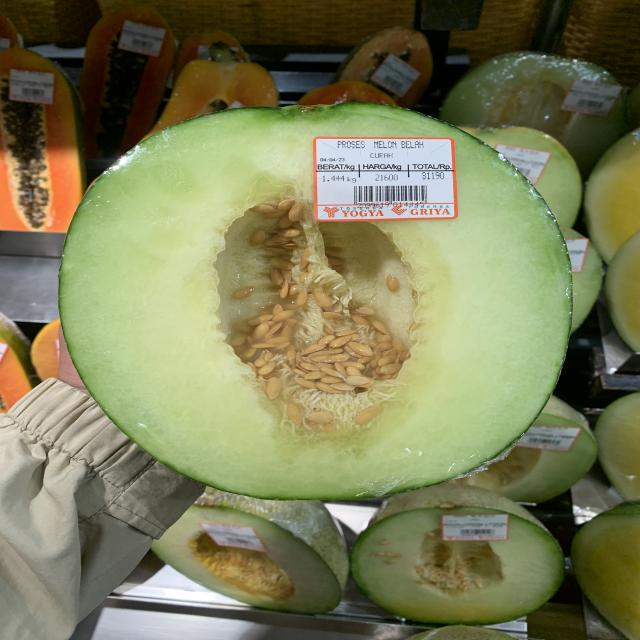Melon: (58, 102, 577, 500), (354, 494, 570, 629), (187, 500, 348, 612)
Pawpaw: (0, 41, 77, 218)
